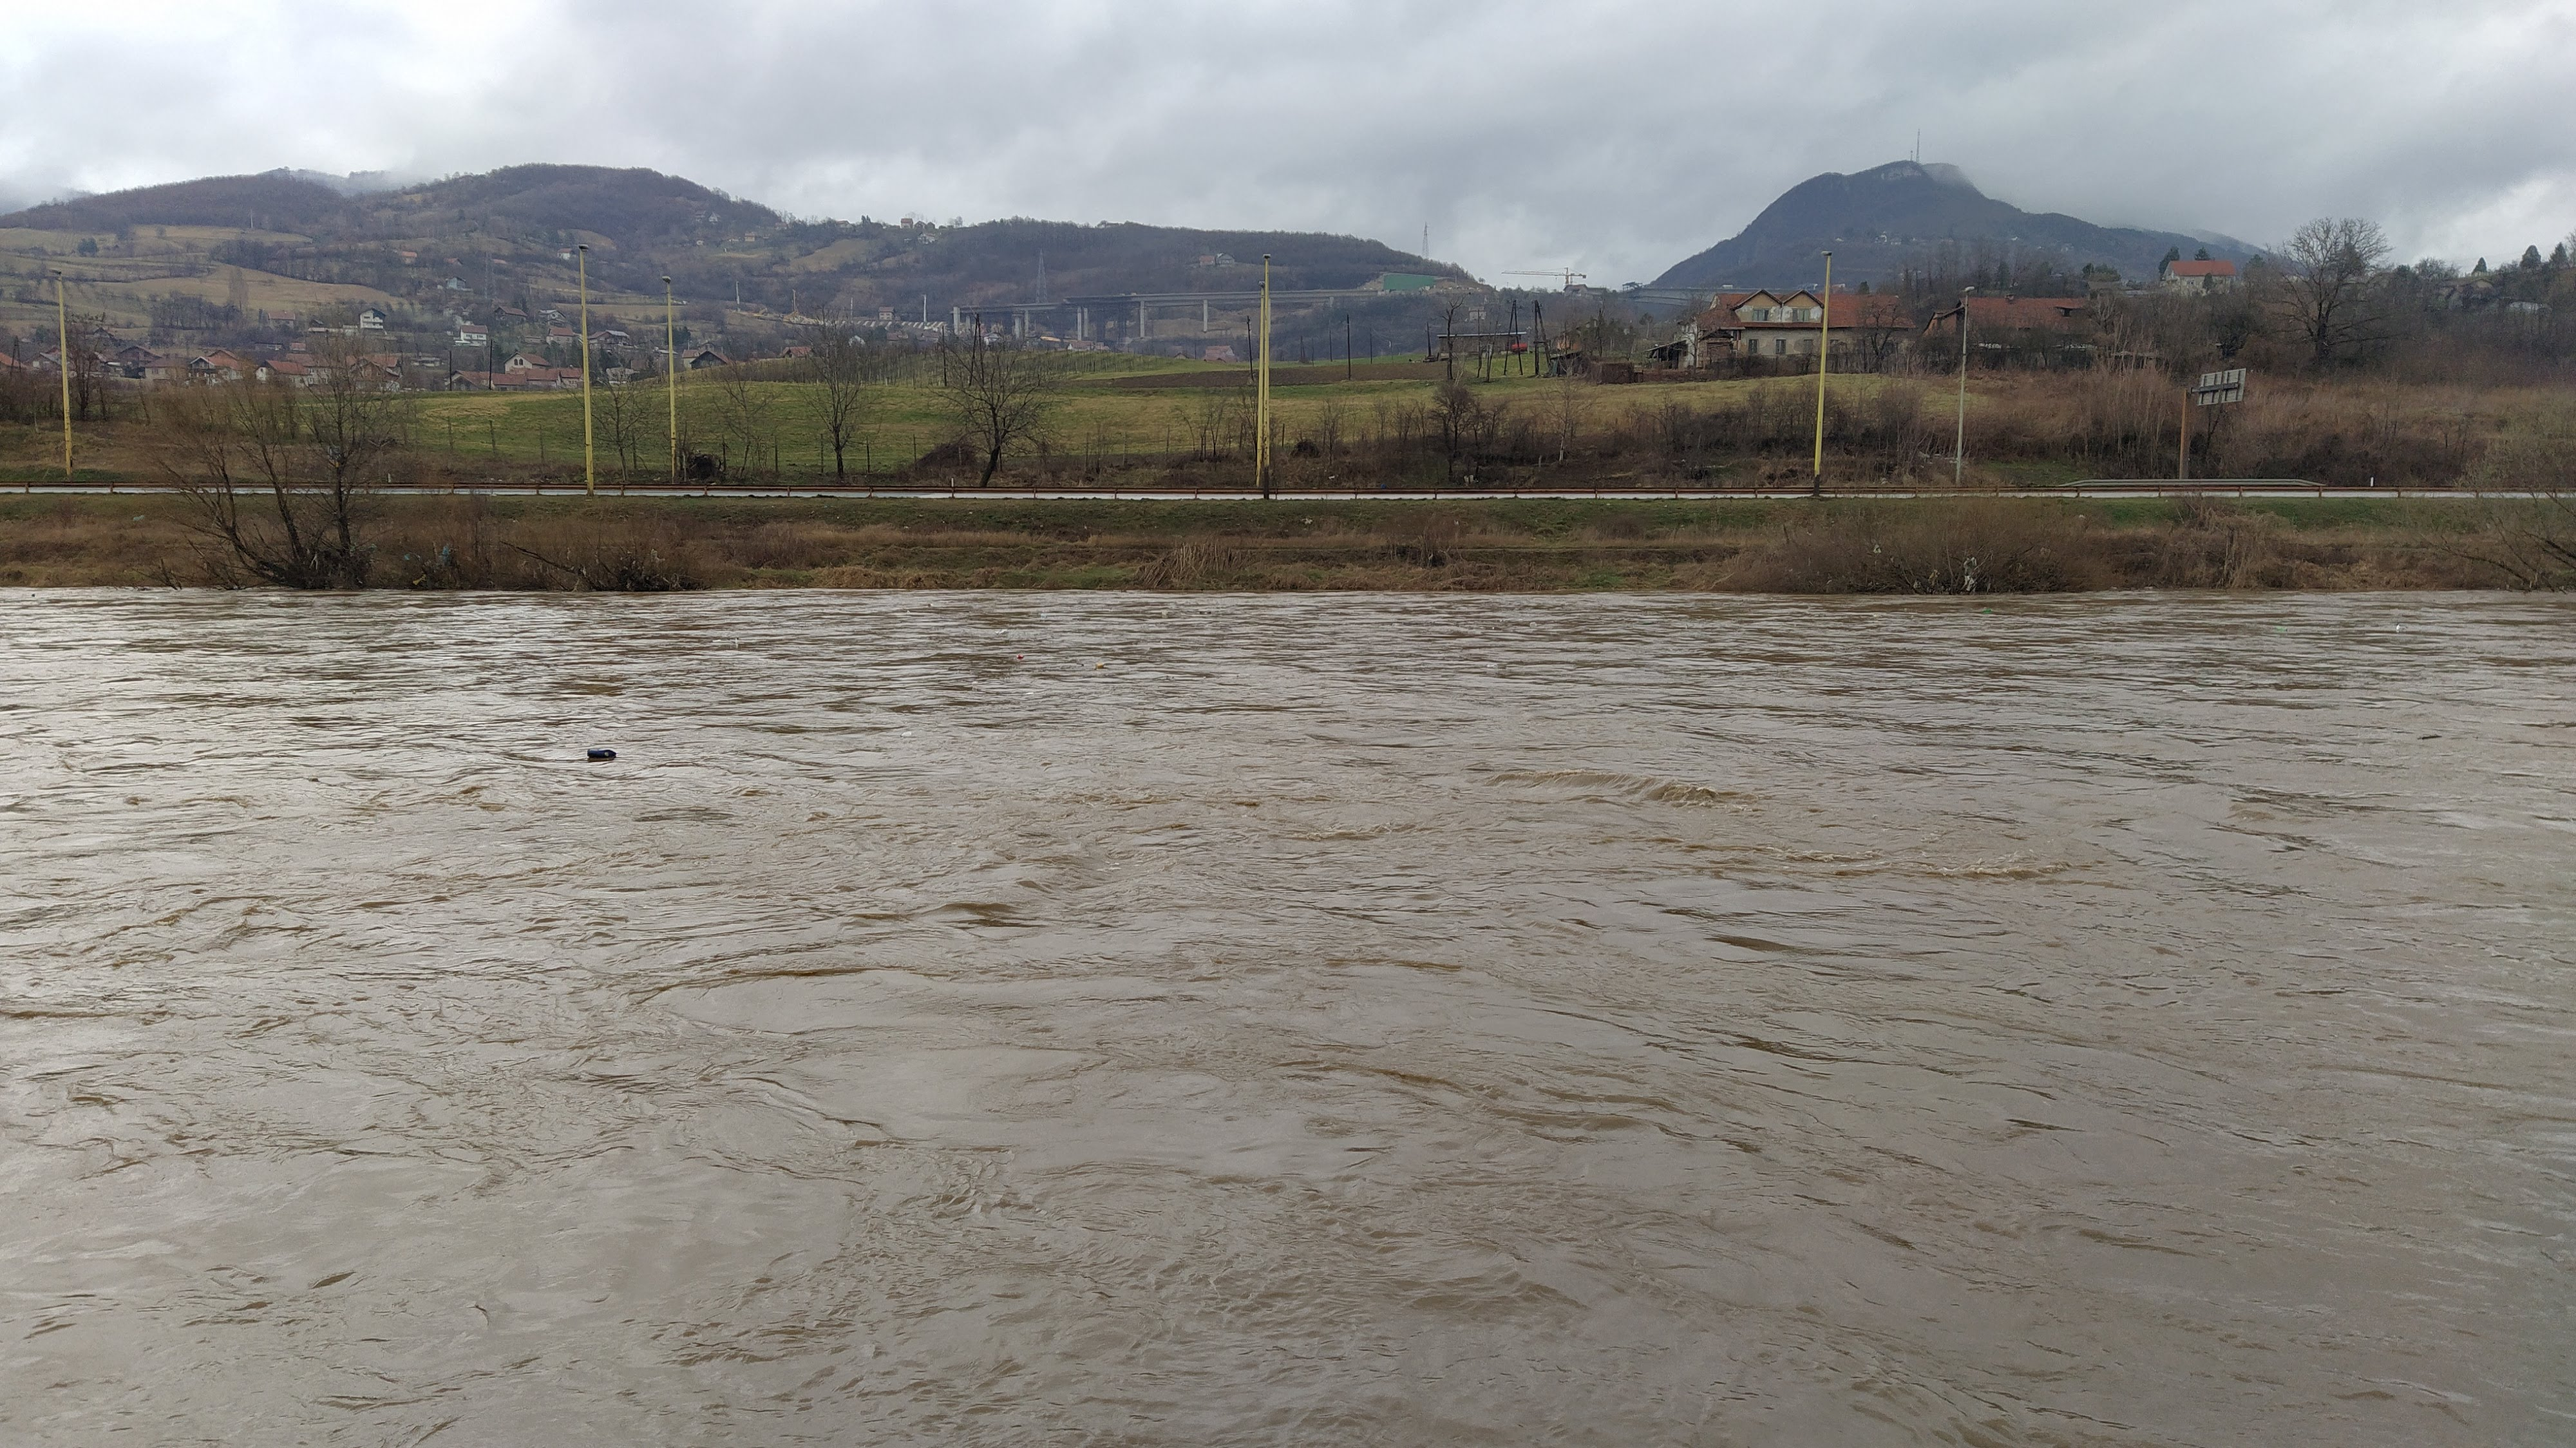Plastic Bottle: (587, 747, 616, 759), (899, 731, 911, 738), (2277, 627, 2288, 632), (1486, 662, 1495, 667), (1529, 621, 1536, 627), (1983, 609, 1990, 612), (1097, 662, 1102, 666)
